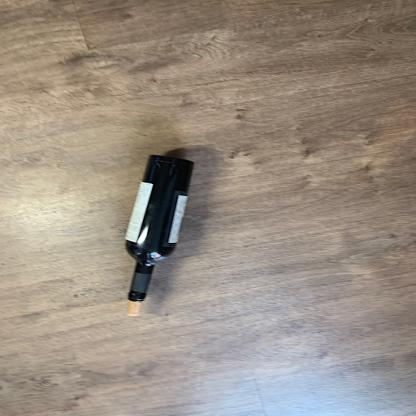trash: (116, 153, 198, 301)
